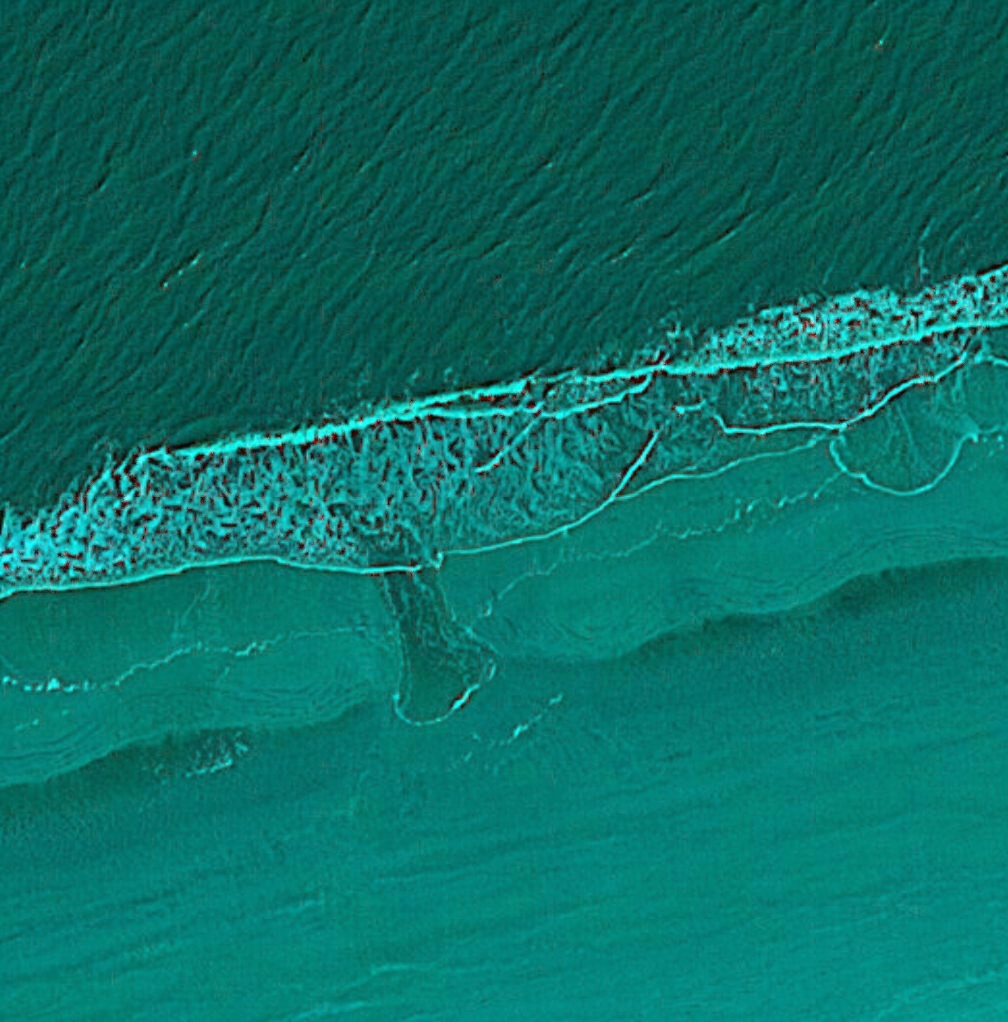rip_current: (320, 477, 478, 640)
